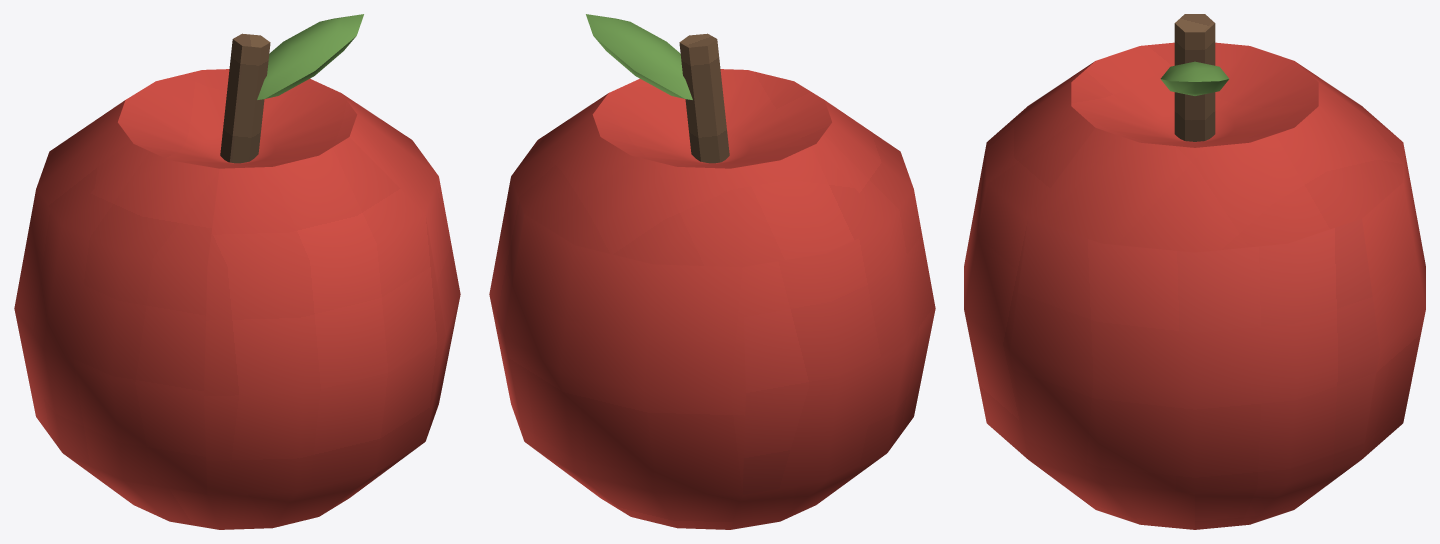
File: apple.glb
3 renders of one model, left to right at view 1: azimuth 30°, elevation 25°; view 2: azimuth 150°, elevation 25°; view 3: azimuth 270°, elevation 25°, orthographic. The views are drawn at different scales.
Visible parts, largest first — view 1: apple; view 2: apple; view 3: apple.
Part boxes in pixels (x1=…): apple: x1=14, y1=14, x2=460, y2=529; apple: x1=489, y1=14, x2=935, y2=529; apple: x1=964, y1=14, x2=1425, y2=529.
Size of the model in its own units: 0.082 by 0.0883 by 0.08.
Materials: 3 (2 with a texture image).
